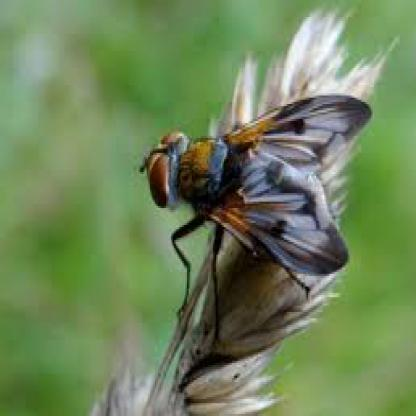other: (136, 85, 376, 325)
